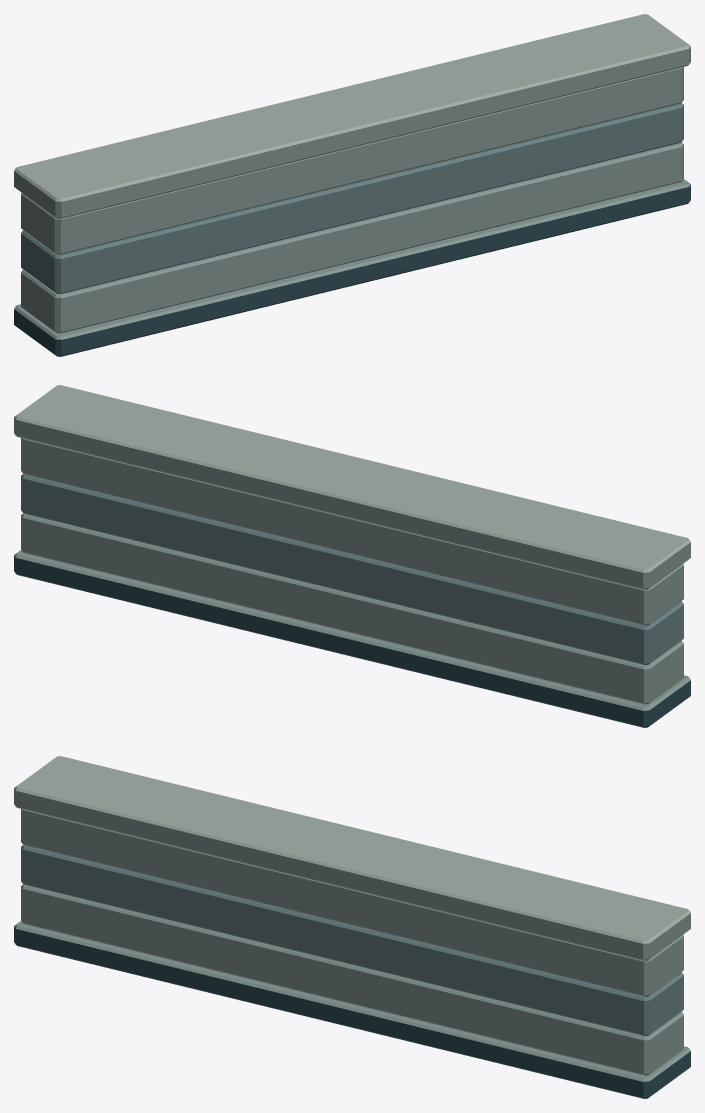
Rendered from wall-long.glb.
The picture shows the model from 3 angles, top to bottom: view 1: azimuth 30°, elevation 25°; view 2: azimuth 150°, elevation 25°; view 3: azimuth 330°, elevation 25°; orthographic projection.
Visible parts, largest first — view 1: wall-long__body; view 2: wall-long__body; view 3: wall-long__body.
Boxes of the visible parts, bbox=[...] form: wall-long__body: bbox=[14, 14, 690, 356]; wall-long__body: bbox=[14, 385, 690, 727]; wall-long__body: bbox=[14, 756, 690, 1098].
Bounding box in the file's own units: 4 × 0.95 × 0.5.
